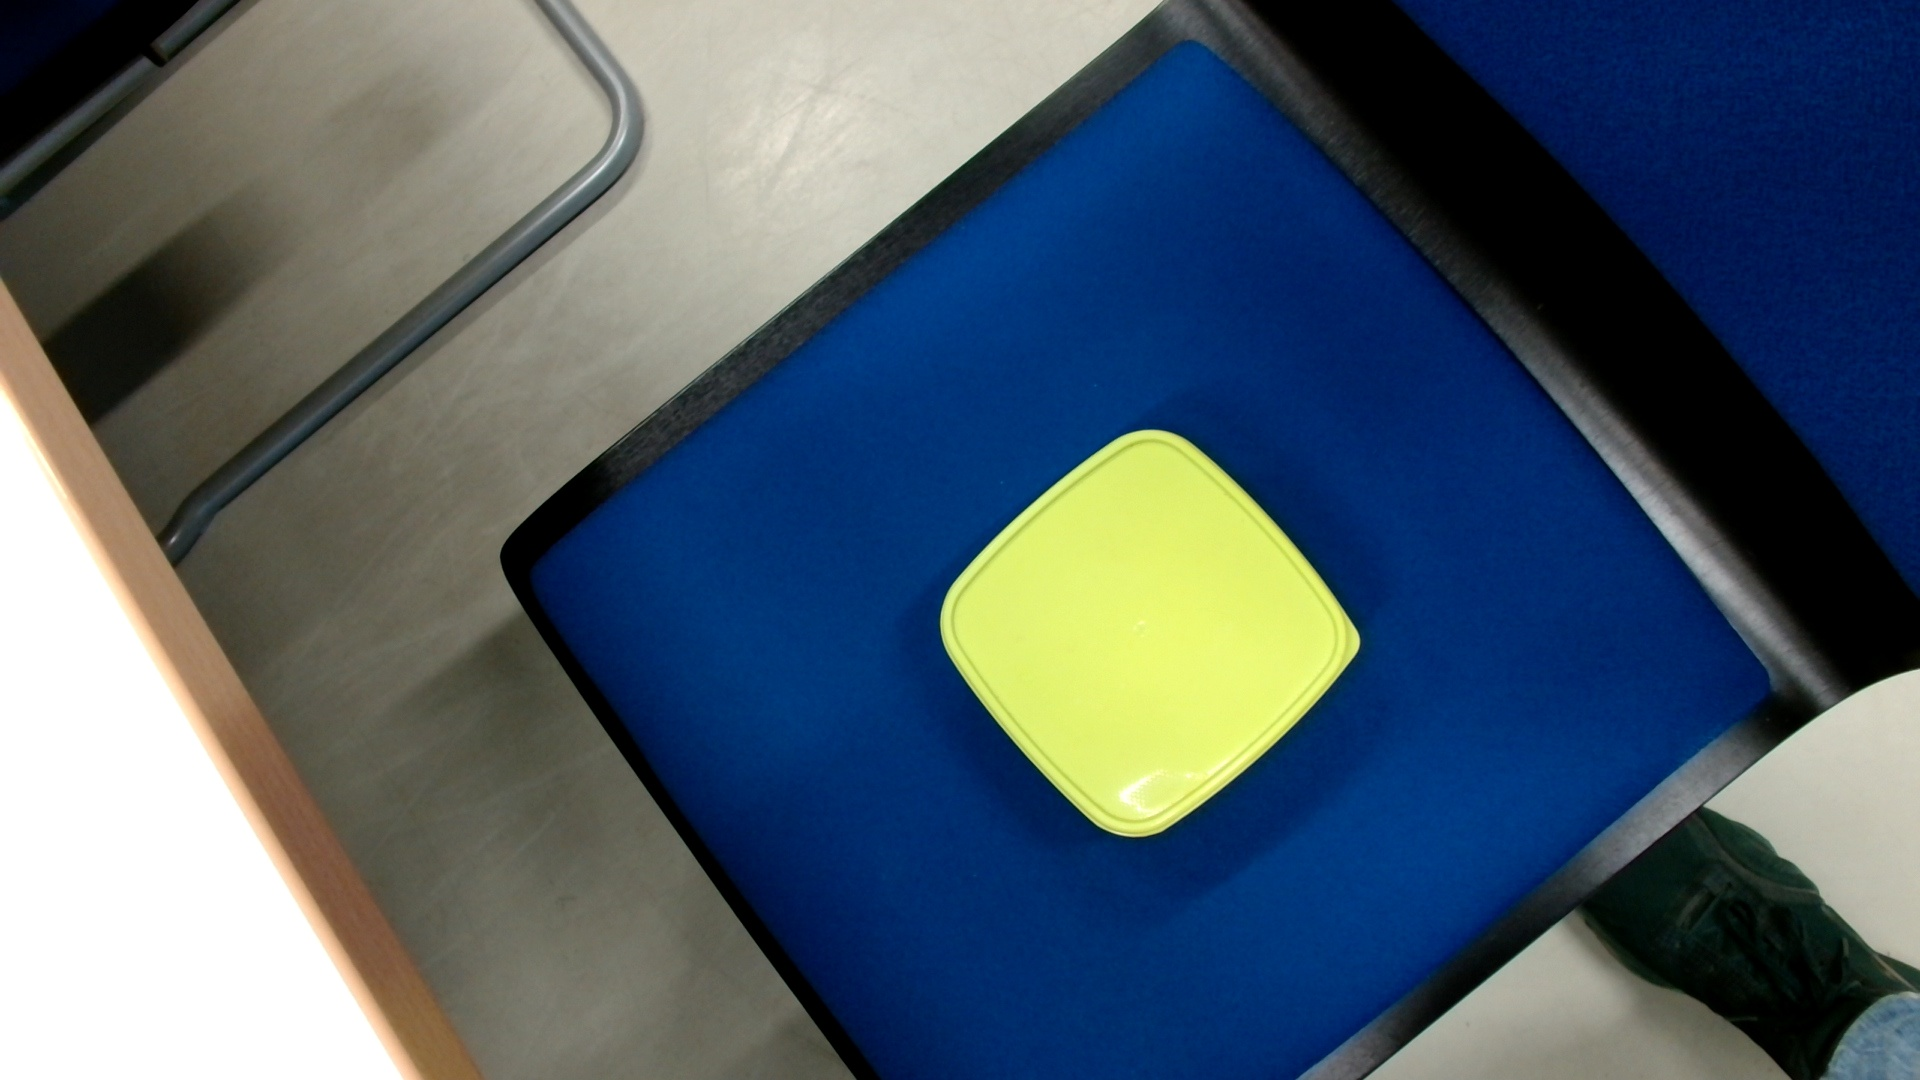Box: (934, 422, 1367, 848)
